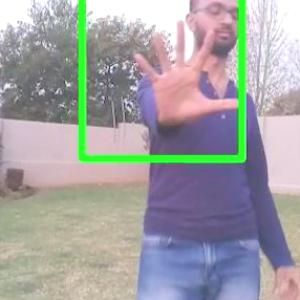follow_hand: (127, 15, 245, 125)
